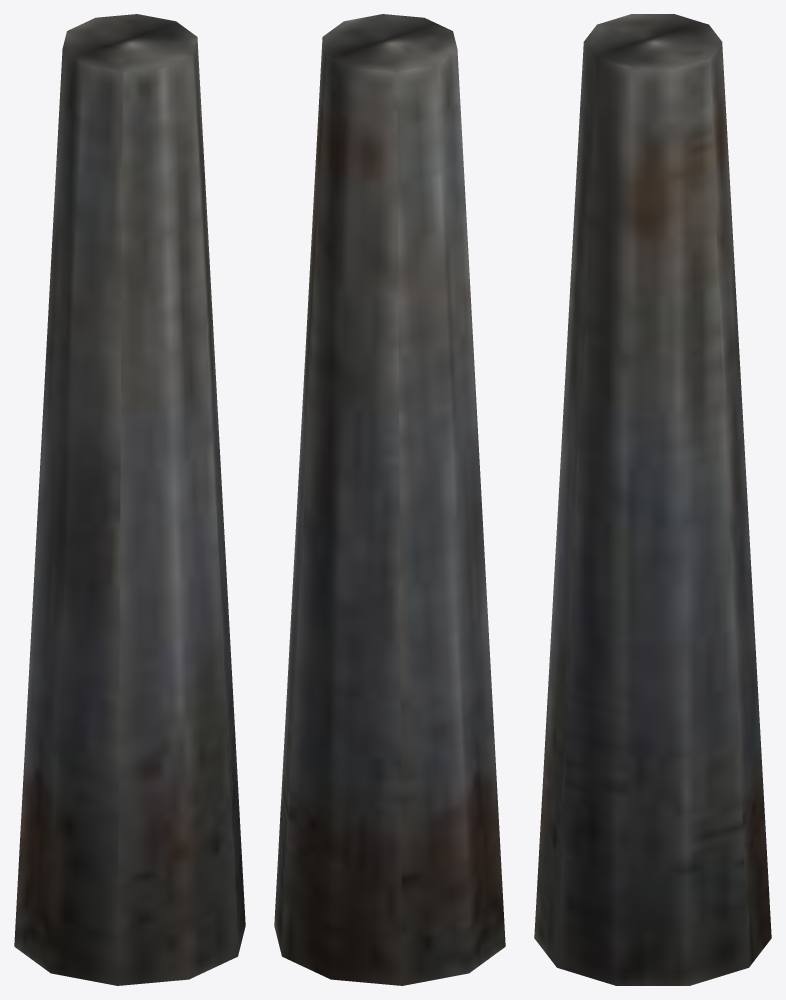
The model's file is lamp_pole.glb.
3 views of the same model, side by side, from view 1: azimuth 30°, elevation 25°; view 2: azimuth 150°, elevation 25°; view 3: azimuth 270°, elevation 25° (orthographic).
Parts seen in each view (by area): view 1: lamp_pole; view 2: lamp_pole; view 3: lamp_pole.
Part boxes in pixels (x1,y1,x2,y2): lamp_pole: (14, 14, 245, 985); lamp_pole: (274, 14, 505, 985); lamp_pole: (534, 14, 771, 985).
Bounding box in the file's own units: 0.2283 × 1 × 0.24.
Materials: 1 (1 with a texture image).
